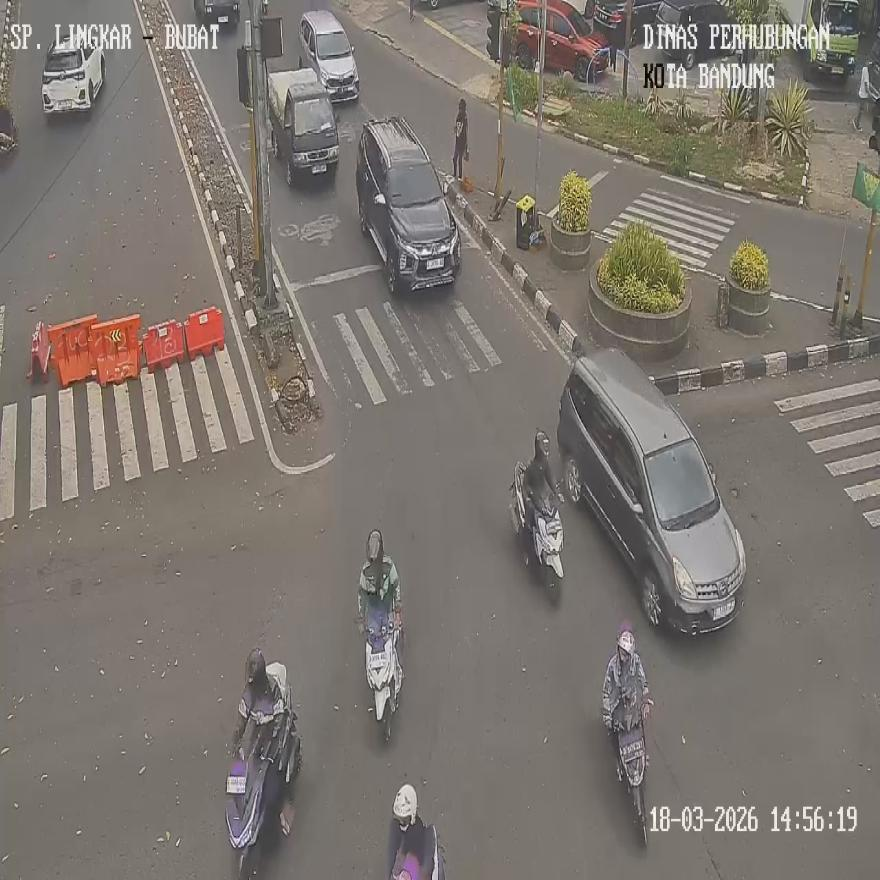Manusia: (452, 99, 468, 178)
Mobil: (557, 347, 748, 634), (355, 115, 462, 292), (267, 70, 340, 183), (299, 10, 360, 101), (42, 32, 105, 114), (192, 0, 239, 27)
Motor: (226, 664, 301, 879), (510, 461, 564, 603), (365, 614, 402, 737), (616, 709, 649, 845)
